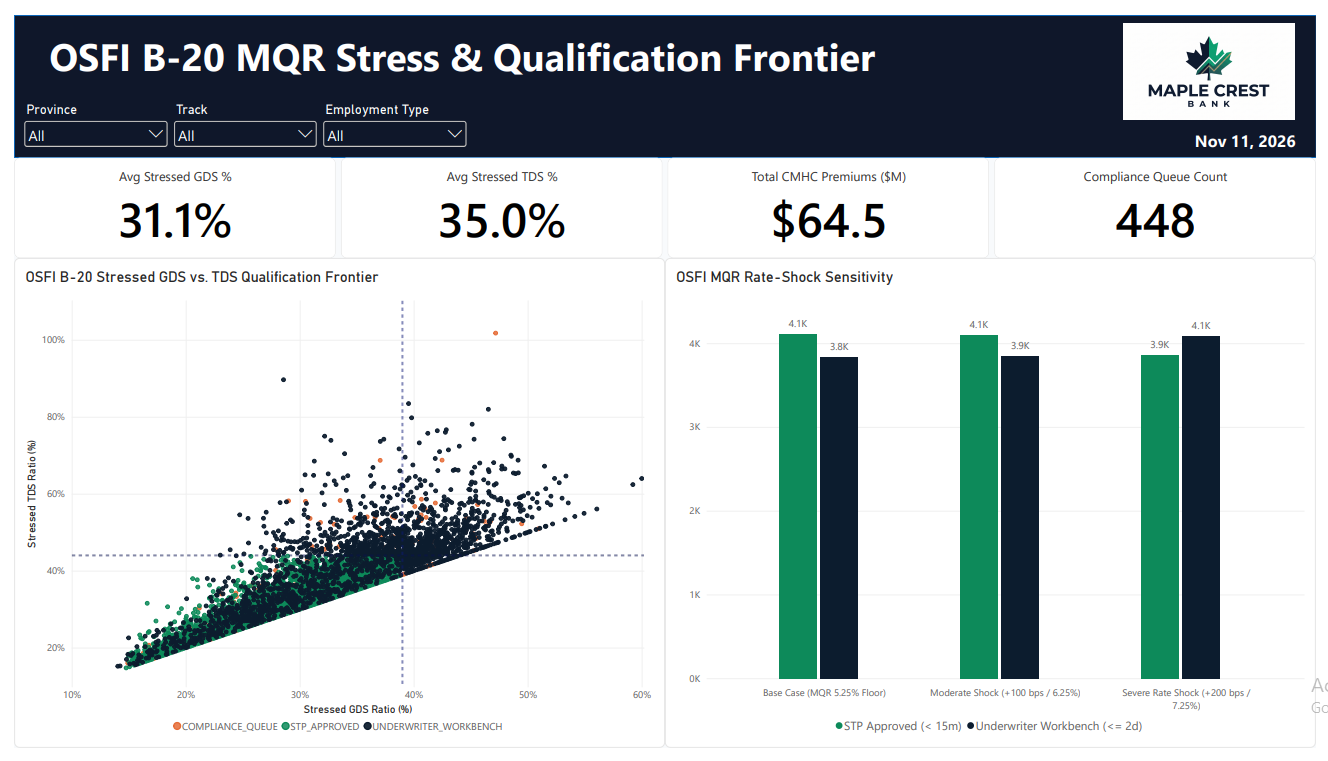

What the dashboard file says about the page in this screenshot:
{"tool":"powerbi","page":{"name":"OSFI B-20 MQR Stress & Qualification Frontier","canvas":[1920,1080],"ordinal":1},"visuals":[{"type":"shape","title":"Maple Crest Bank — Target State Mortgage Triage & Underwriting Analytics","box":[0,0,1920.6,210.1],"z":0},{"type":"textbox","box":[10.1,21.6,1909.9,92.3],"z":1000},{"type":"slicer","fields":{"Values":["triaged_applications.province"]},"box":[10.1,126.8,220.5,82.2],"z":2000},{"type":"slicer","fields":{"Values":["triaged_applications.track"]},"box":[230.6,126.8,220.5,82.2],"z":3000},{"type":"slicer","fields":{"Values":["triaged_applications.employment_type"]},"box":[451.2,126.8,220.5,82.2],"z":4000},{"type":"cardVisual","fields":{"Data":["_Measures.Avg Stressed GDS %","_Measures.Avg Stressed TDS %","_Measures.Total CMHC Premiums ($M)","_Measures.Compliance Queue Count"]},"box":[0,210.1,1920.6,148],"z":5000},{"type":"scatterChart","title":"OSFI B-20 Stressed GDS vs. TDS Qualification Frontier","fields":{"Category":["triaged_applications.application_id"],"Series":["triaged_applications.routing_decision"],"X":["Sum(triaged_applications.gds_ratio)"],"Y":["Sum(triaged_applications.tds_ratio)"]},"box":[0,357.8,960.3,722.2],"z":6000},{"type":"clusteredColumnChart","title":"OSFI MQR Rate-Shock Sensitivity","fields":{"Category":["mqr_sensitivity.scenario"],"Y":["Sum(mqr_sensitivity.stp_count)","Sum(mqr_sensitivity.workbench_count)"]},"box":[960,358,960,722],"z":7000},{"type":"image","box":[1634.6,12,256.7,141],"z":8000},{"type":"textbox","box":[1686.5,167.6,204.8,38.6],"z":9000}]}

Visuals, with their boxes in screenshot pixels (x1, y1, x2, y2), scaled from the page's 1920x1080 canvas onto the 1328x761 screenshot:
"Maple Crest Bank — Target State Mortgage Triage & Underwriting Analytics" shape: 0:0:1327:148
textbox: 7:15:1327:80
slicer - triaged_applications.province: 7:89:159:147
slicer - triaged_applications.track: 159:89:312:147
slicer - triaged_applications.employment_type: 312:89:465:147
cardVisual - _Measures.Avg Stressed GDS % x _Measures.Avg Stressed TDS %: 0:148:1327:252
"OSFI B-20 Stressed GDS vs. TDS Qualification Frontier" scatterChart: 0:252:664:760
"OSFI MQR Rate-Shock Sensitivity" clusteredColumnChart: 664:252:1327:760
image: 1131:8:1308:108
textbox: 1166:118:1308:145
